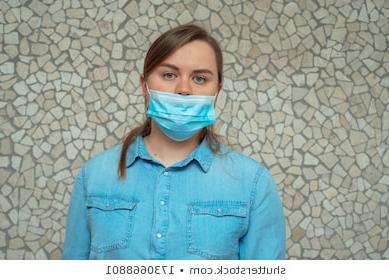mask_weared_incorrect: (152, 62, 216, 131)
